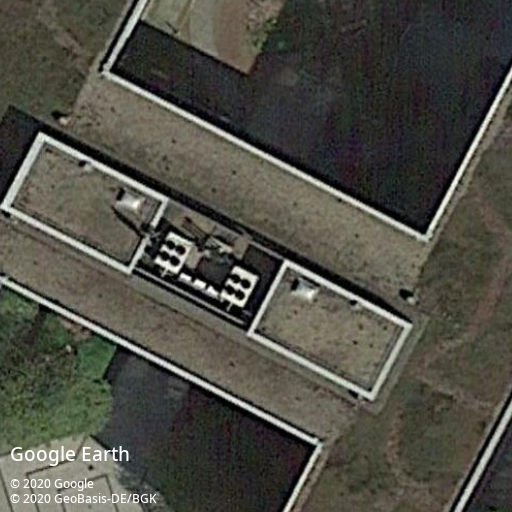Chiller: (154, 231, 192, 276), (221, 261, 259, 306)
